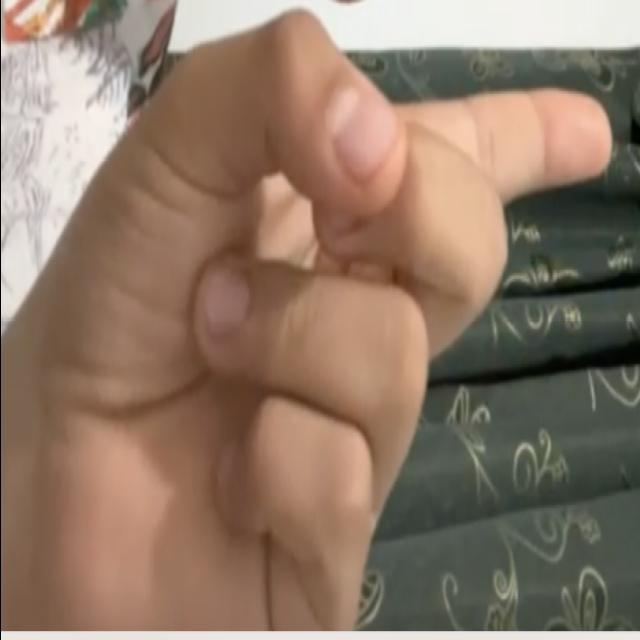D: (40, 0, 620, 631)
